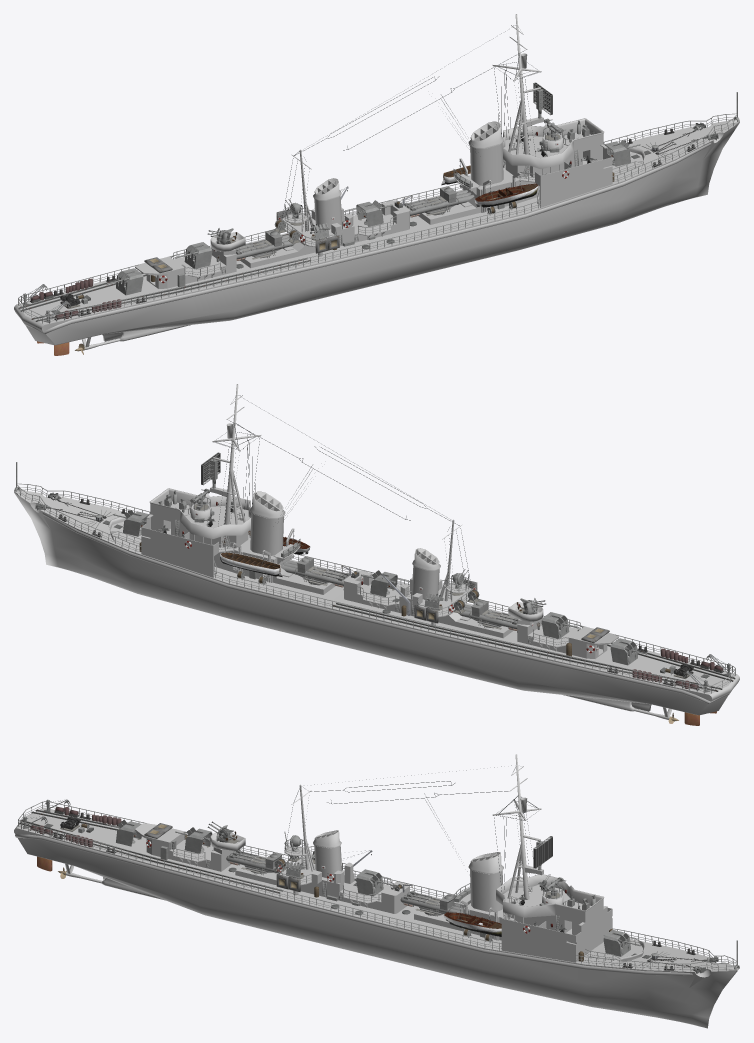
The model's file is Barco1.obj.
3 views of the same model, one above another, from view 1: azimuth 30°, elevation 25°; view 2: azimuth 150°, elevation 25°; view 3: azimuth 330°, elevation 25° (orthographic).
Parts seen in each view (by area): view 1: T-22_Hull, T-22_Props, T-22_SideFence, T-22_TorpedoTubes, T-22_TorpedoTubes.001, T-22_Cables, T-22_Vessel_1, T-22_Main_turret.003, T-22_Main_turret.002; view 2: T-22_Hull, T-22_Props, T-22_SideFence, T-22_TorpedoTubes, T-22_TorpedoTubes.001, T-22_Cables, T-22_Vessel_2, T-22_Main_turret.003, T-22_Main_turret.002; view 3: T-22_Hull, T-22_Props, T-22_SideFence, T-22_TorpedoTubes, T-22_TorpedoTubes.001, T-22_Vessel_1, T-22_Cables, T-22_Main_turret.001, T-22_Main_turret, T-22_Main_turret.002, T-22_Main_turret.003, T-22_Radar_2.
Part boxes in pixels (x1,y1,x2,y2): T-22_Hull: (14, 14, 739, 350); T-22_Props: (18, 92, 739, 322); T-22_SideFence: (18, 113, 737, 323); T-22_TorpedoTubes: (404, 186, 474, 217); T-22_TorpedoTubes.001: (235, 230, 295, 260); T-22_Cables: (282, 25, 539, 226); T-22_Vessel_1: (474, 183, 538, 207); T-22_Main_turret.003: (116, 268, 143, 295); T-22_Main_turret.002: (184, 242, 212, 268); T-22_Hull: (14, 384, 739, 719); T-22_Props: (14, 462, 735, 692); T-22_SideFence: (16, 483, 735, 693); T-22_TorpedoTubes: (280, 556, 349, 587); T-22_TorpedoTubes.001: (458, 600, 518, 630); T-22_Cables: (214, 395, 471, 596); T-22_Vessel_2: (220, 552, 282, 576); T-22_Main_turret.003: (610, 638, 637, 665); T-22_Main_turret.002: (541, 612, 569, 638); T-22_Hull: (14, 754, 739, 1028); T-22_Props: (19, 799, 739, 973); T-22_SideFence: (18, 801, 736, 971); T-22_TorpedoTubes: (400, 890, 463, 916); T-22_TorpedoTubes.001: (226, 849, 289, 875); T-22_Vessel_1: (443, 912, 501, 936); T-22_Cables: (282, 765, 538, 898); T-22_Main_turret.001: (356, 869, 383, 896); T-22_Main_turret: (603, 929, 630, 956); T-22_Main_turret.002: (184, 827, 212, 853); T-22_Main_turret.003: (116, 820, 141, 846); T-22_Radar_2: (533, 836, 552, 870).
Size of the model in its own units: 97.14 by 29.45 by 9.72.
